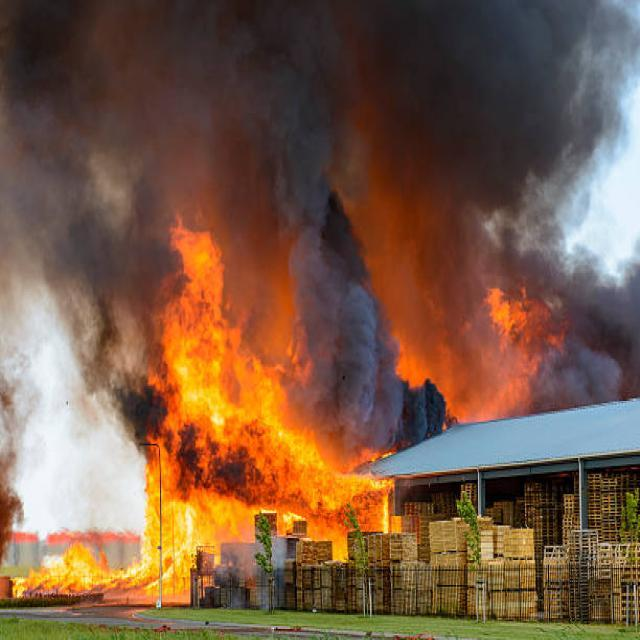Fire: (158, 220, 384, 560), (379, 205, 567, 414), (28, 530, 248, 618)
Smoke: (0, 0, 640, 375)
